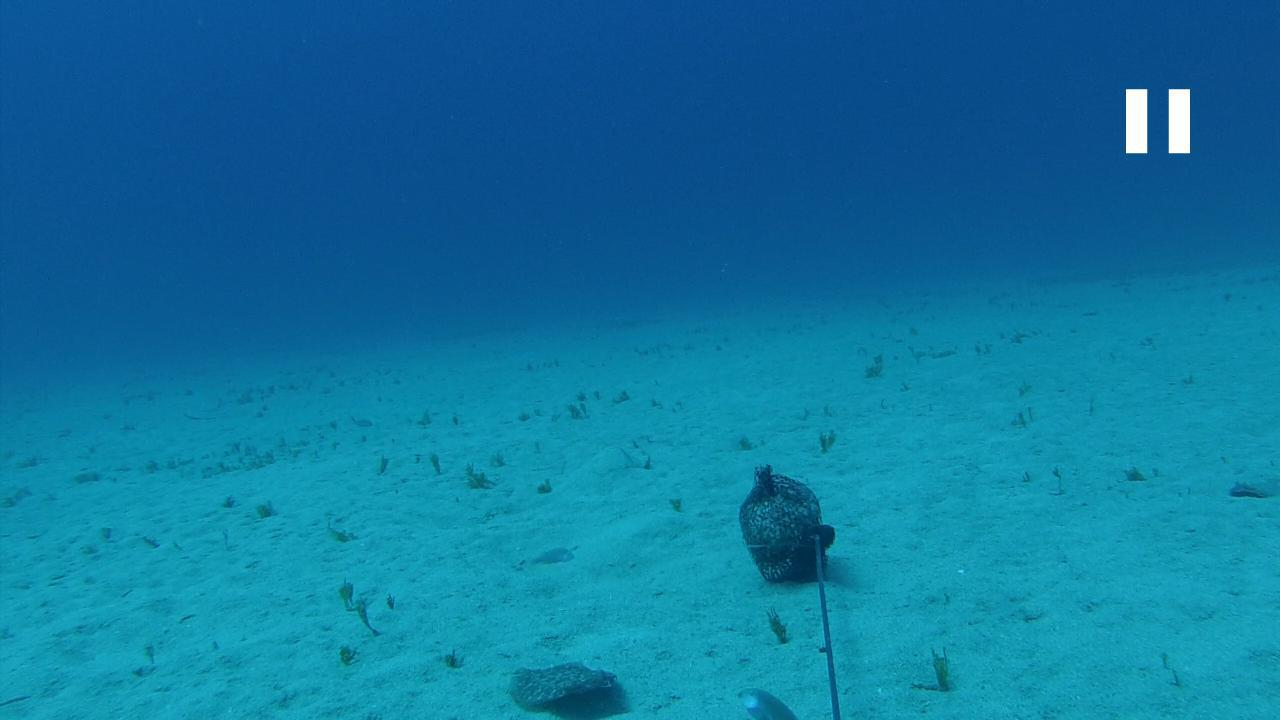bothus: (506, 660, 616, 711)
